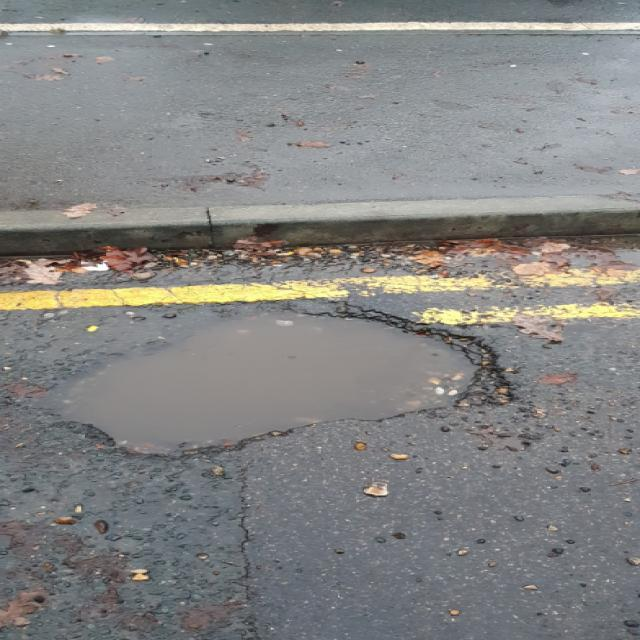pothole: (15, 293, 521, 464)
